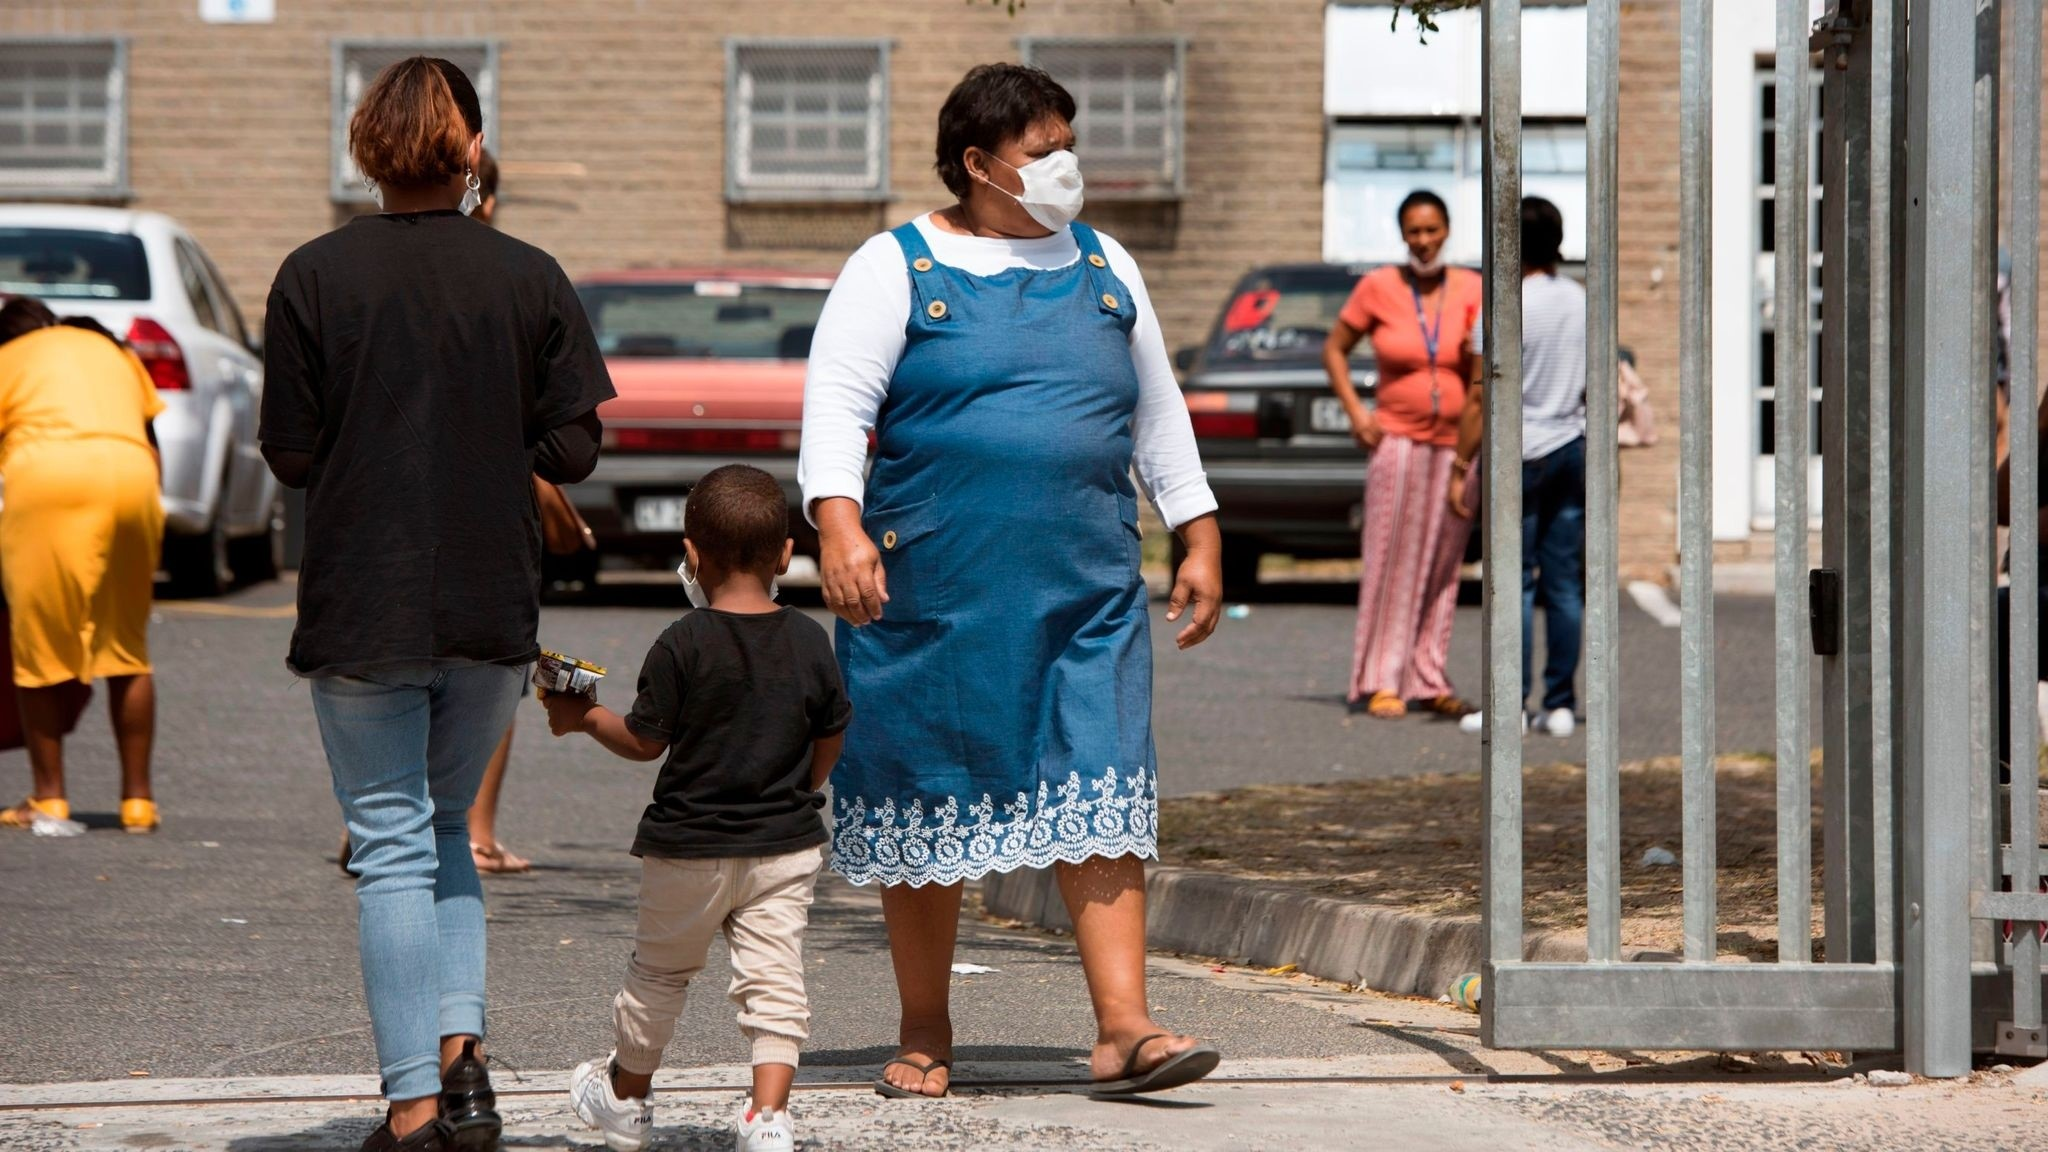face_with_mask: (937, 57, 1092, 249), (1392, 186, 1450, 284)
